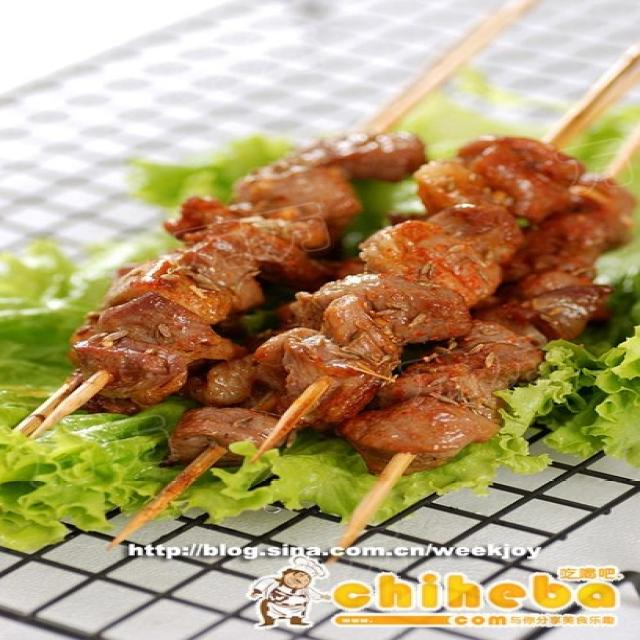烧串烤肉: (41, 56, 623, 540)
